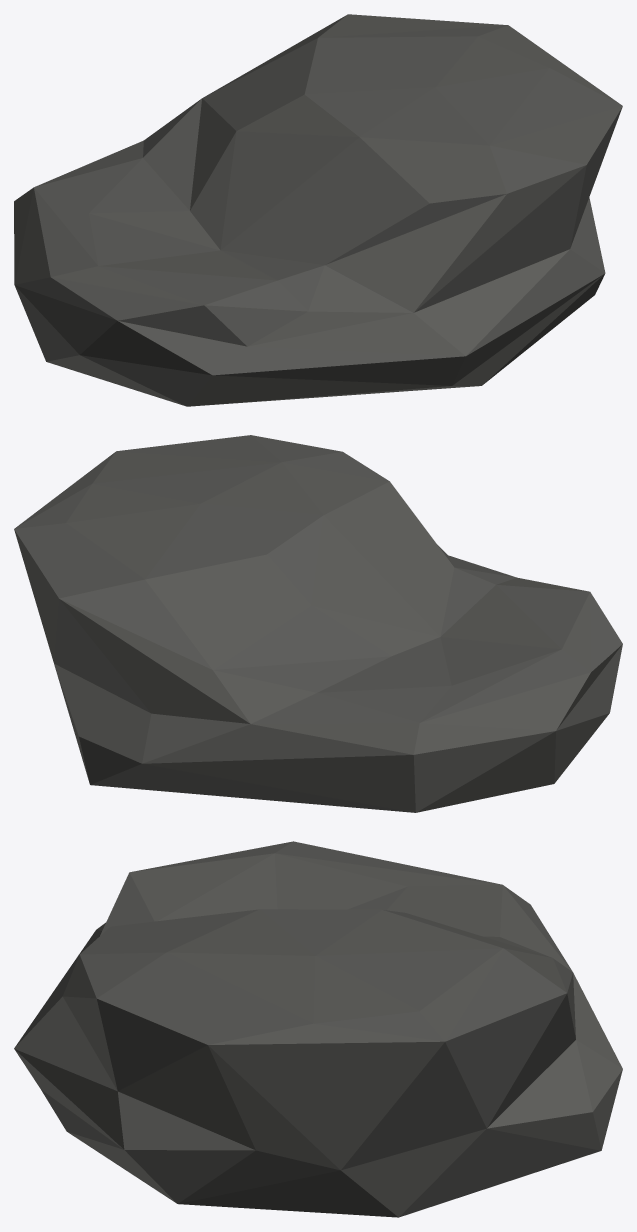
Rendered from SM_Envr_Nature_Rock_09.fbx.
3 views of the same model, one above another, from view 1: azimuth 30°, elevation 25°; view 2: azimuth 150°, elevation 25°; view 3: azimuth 270°, elevation 25° (orthographic). The views are drawn at different scales.
Visible parts, largest first — view 1: SM_Envr_Nature_Rock_09; view 2: SM_Envr_Nature_Rock_09; view 3: SM_Envr_Nature_Rock_09.
Part boxes in pixels (x1=…): SM_Envr_Nature_Rock_09: x1=14, y1=14, x2=622, y2=406; SM_Envr_Nature_Rock_09: x1=14, y1=435, x2=622, y2=812; SM_Envr_Nature_Rock_09: x1=14, y1=841, x2=622, y2=1217.
Bounding box in the file's own units: 268 × 94.93 × 247.
